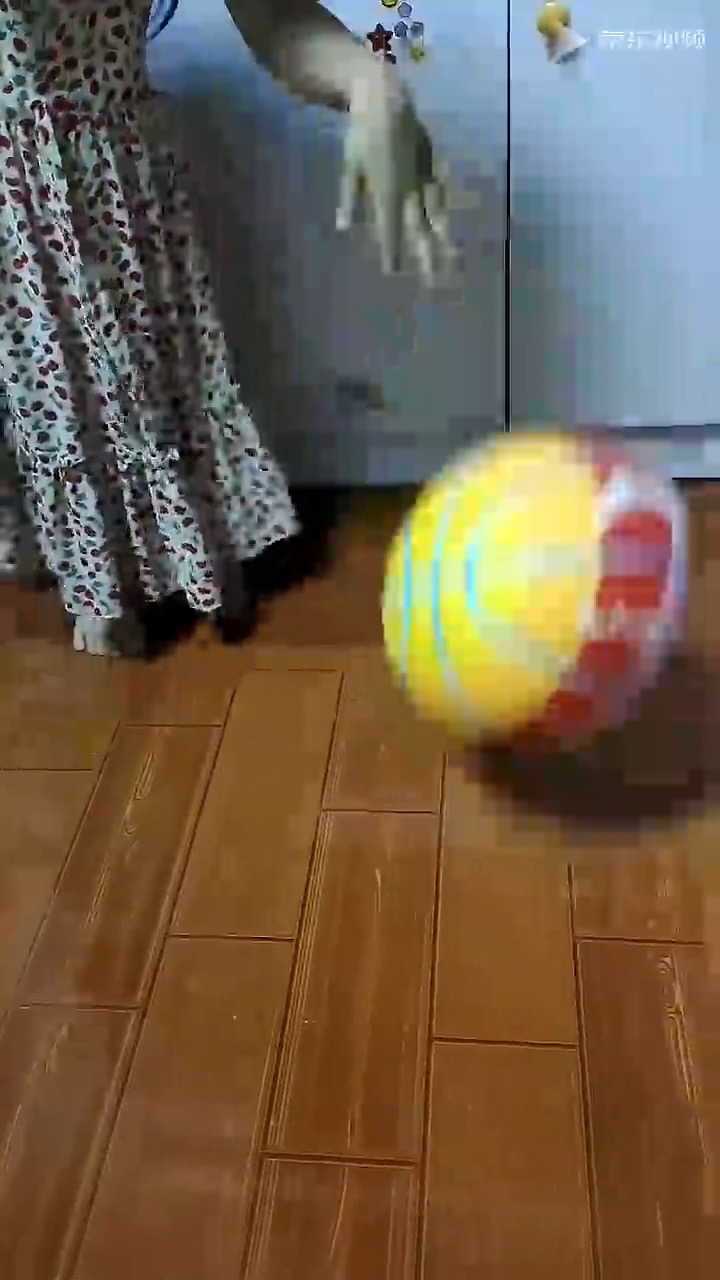ball: (376, 424, 693, 766)
